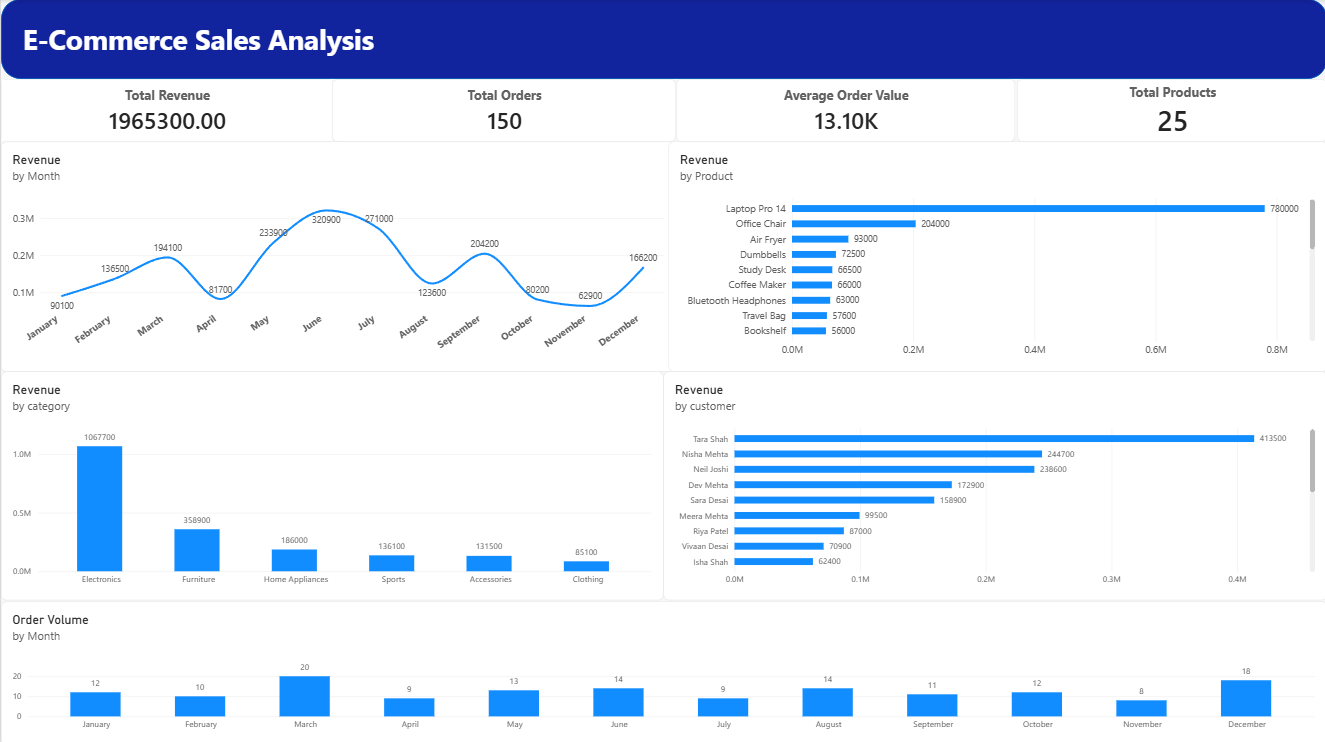

The dashboard page shown, as its layout file describes it:
{"tool":"powerbi","page":{"name":"Page 1","canvas":[1920,1080],"ordinal":0},"visuals":[{"type":"cardVisual","fields":{"Data":["orders.Total Revenue"]},"box":[0,115.4,480.4,91.2],"z":0},{"type":"cardVisual","fields":{"Data":["CountNonNull(orders.order_id)"]},"box":[480.4,115.4,497.1,91.2],"z":1000},{"type":"cardVisual","fields":{"Data":["orders.Average Order Value"]},"box":[977.5,115.4,491.5,91.2],"z":2000},{"type":"cardVisual","fields":{"Data":["CountNonNull(products.product_id)"]},"box":[1470.9,115.4,448.7,91.2],"z":3000},{"type":"lineChart","fields":{"Category":["orders.order_date.Variation.Date Hierarchy.Month"],"Y":["orders.Total Revenue"]},"box":[0,206.7,977.5,333.3],"z":4000},{"type":"clusteredColumnChart","fields":{"Category":["products.category"],"Y":["orders.Total Revenue"]},"box":[0,540,958.9,331.4],"z":5000},{"type":"clusteredBarChart","fields":{"Category":["products.product_name"],"Y":["orders.Total Revenue"]},"box":[966.3,206.7,953.3,333.3],"z":6000},{"type":"clusteredBarChart","fields":{"Category":["customers.customer_name"],"Y":["orders.Total Revenue"]},"box":[958.9,540,960.8,331.4],"z":7000},{"type":"clusteredColumnChart","fields":{"Category":["orders.order_date.Variation.Date Hierarchy.Month"],"Y":["CountNonNull(orders.order_id)"]},"box":[0,871.4,1919.7,208.5],"z":8000},{"type":"shape","box":[13,0,1906.6,115.4],"z":9000}]}

Visuals, with their boxes in screenshot pixels (x1, y1, x2, y2), scaled from the page's 1920x1080 canvas onto the 1325x742 screenshot:
cardVisual - orders.Total Revenue: left=0, top=79, right=332, bottom=142
cardVisual - CountNonNull(orders.order_id): left=332, top=79, right=675, bottom=142
cardVisual - orders.Average Order Value: left=675, top=79, right=1014, bottom=142
cardVisual - CountNonNull(products.product_id): left=1015, top=79, right=1324, bottom=142
lineChart - orders.order_date.Variation.Date Hierarchy.Month x orders.Total Revenue: left=0, top=142, right=675, bottom=371
clusteredColumnChart - products.category x orders.Total Revenue: left=0, top=371, right=662, bottom=599
clusteredBarChart - products.product_name x orders.Total Revenue: left=667, top=142, right=1324, bottom=371
clusteredBarChart - customers.customer_name x orders.Total Revenue: left=662, top=371, right=1324, bottom=599
clusteredColumnChart - orders.order_date.Variation.Date Hierarchy.Month x CountNonNull(orders.order_id): left=0, top=599, right=1324, bottom=741
shape: left=9, top=0, right=1324, bottom=79
